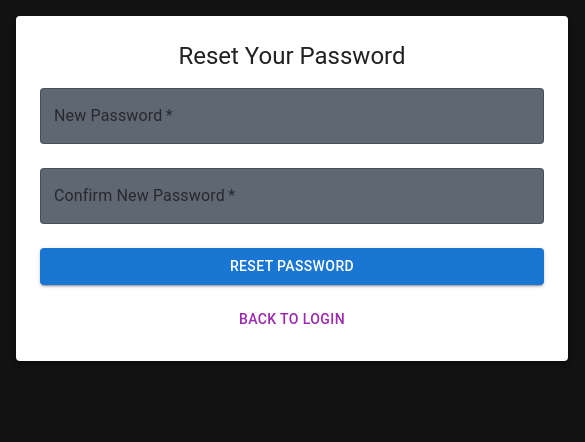
Test: ResetPassword Component › handles API error when resetting password
# Type matching valid passwords
Type "validpassword123" into the password field labelled "New Password *" at {"x": 292, "y": 116}, box left=40, top=88, right=544, bottom=144
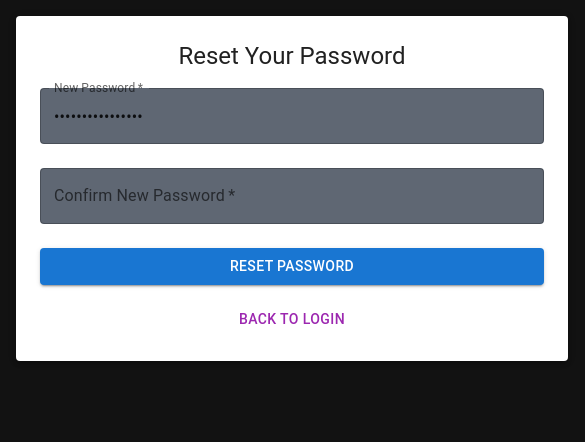
Type "validpassword123" into the password field labelled "Confirm New Password *" at {"x": 292, "y": 196}, box left=40, top=168, right=544, bottom=224
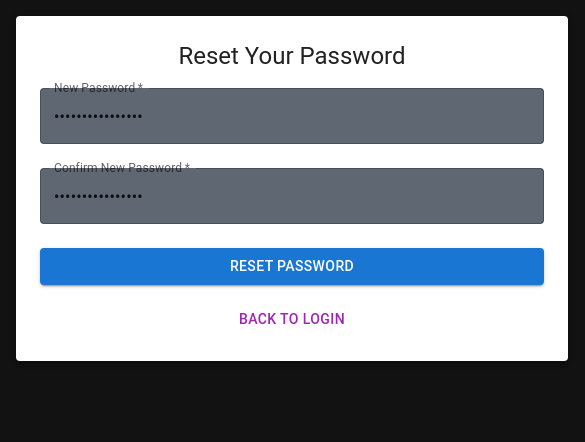
# Submit the form
Click the button "Reset Password" at {"x": 292, "y": 266}, box left=40, top=248, right=544, bottom=284
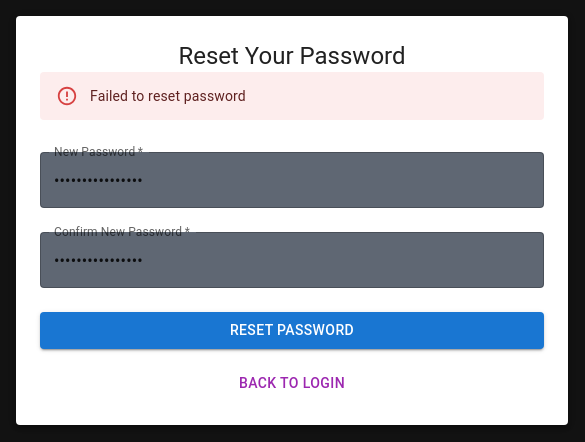
Expected: the text "Failed to reset password" is shown, left=90, top=88, right=246, bottom=104
